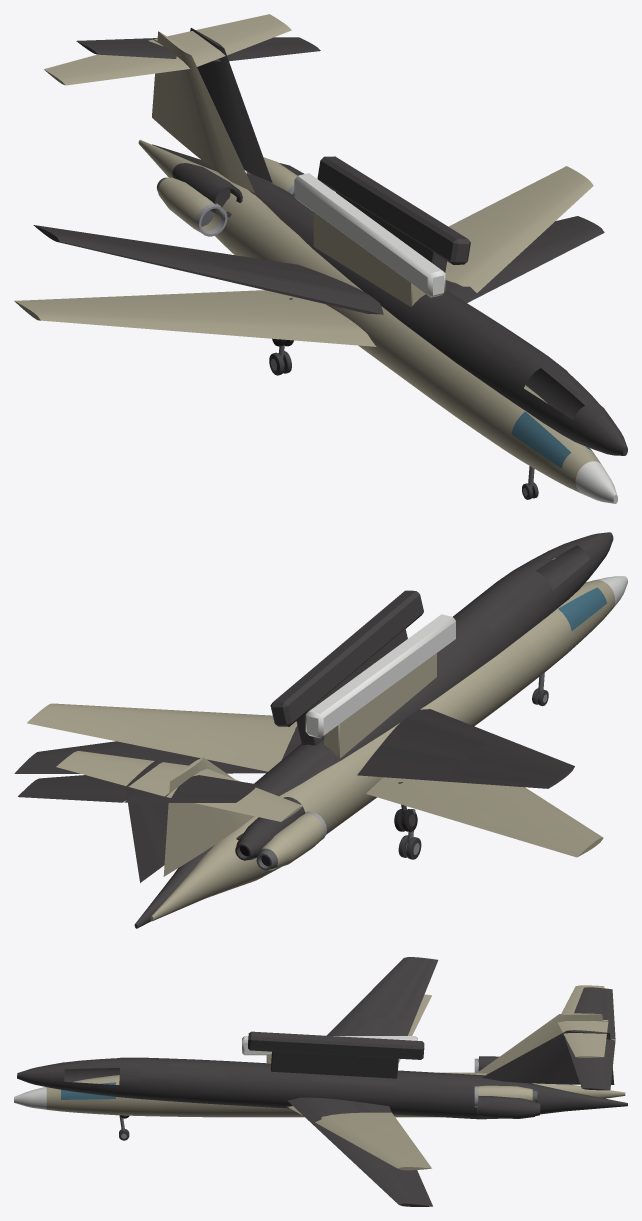
File: aewc__e_99.glb
The picture shows the model from 3 angles, top to bottom: view 1: azimuth 30°, elevation 25°; view 2: azimuth 150°, elevation 25°; view 3: azimuth 270°, elevation 25°; orthographic projection. The views are drawn at different scales.
Visible parts, largest first — view 1: Fuselage_Mesh, Wreck; view 2: Fuselage_Mesh, Wreck; view 3: Wreck, Fuselage_Mesh.
Part boxes in pixels (left/top/right/bottom): Fuselage_Mesh: left=14, top=14, right=617, bottom=503; Wreck: left=33, top=28, right=627, bottom=455; Fuselage_Mesh: left=27, top=576, right=627, bottom=921; Wreck: left=14, top=532, right=613, bottom=928; Wreck: left=17, top=957, right=627, bottom=1206; Fuselage_Mesh: left=14, top=985, right=625, bottom=1170.
Size of what is drawn, in the model's own units: 20.48 by 6.96 by 29.99.
